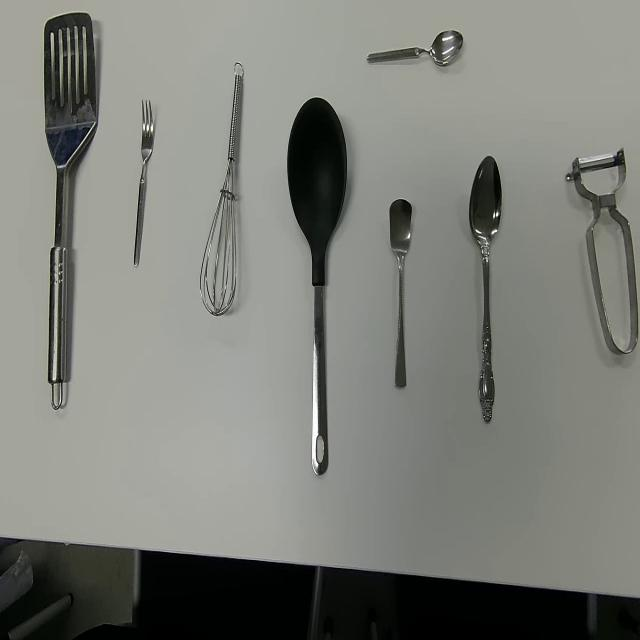Desert-Spoon: (468, 155, 504, 425)
Dinner-Fork: (133, 96, 153, 266)
Peeler: (564, 147, 639, 356)
Serving-Spoon: (287, 95, 348, 478), (43, 12, 98, 412)
Tea-Spoon: (388, 197, 413, 389), (365, 28, 464, 67)
Whisk: (198, 60, 245, 317)
